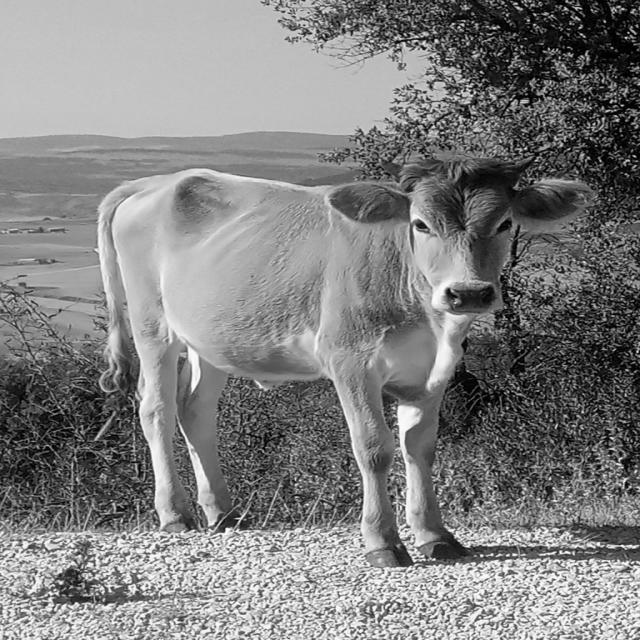cow: (98, 159, 590, 566)
